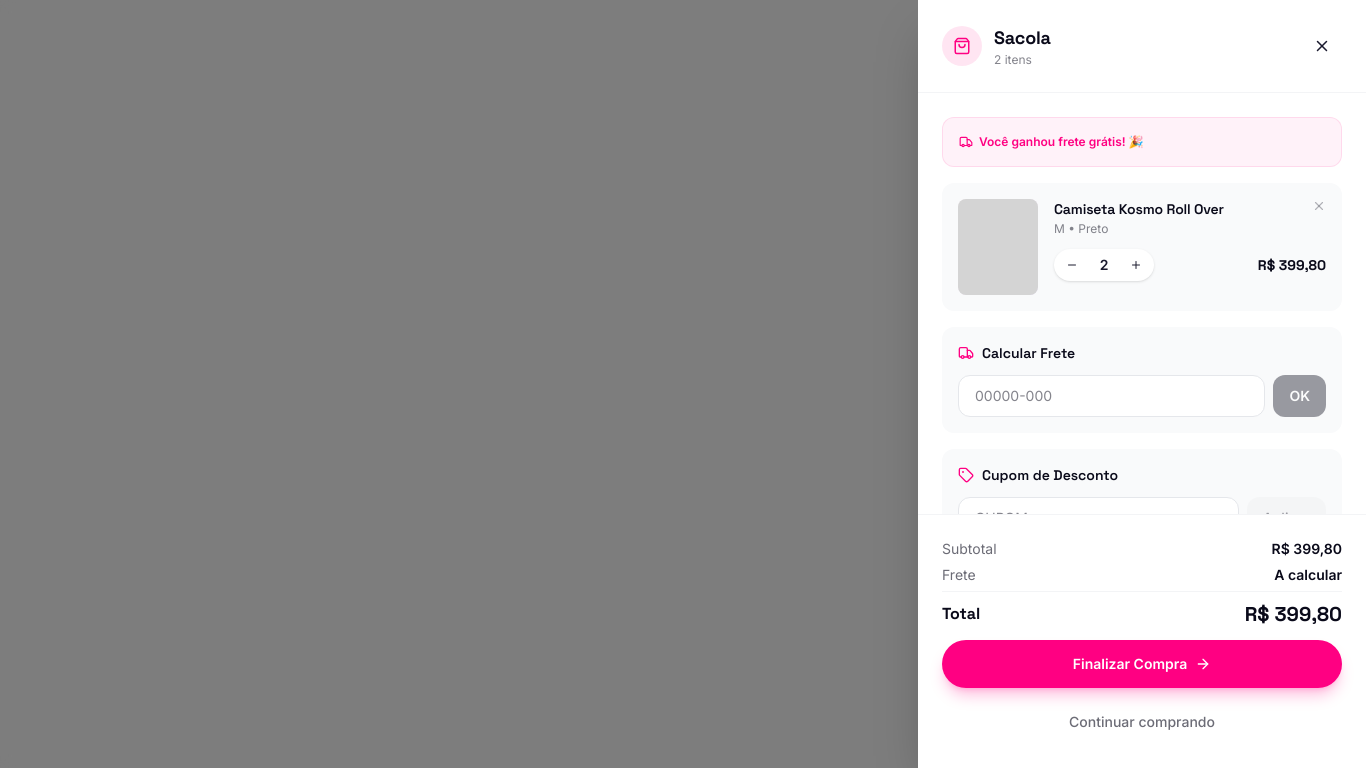
Test: CartDrawer (Componente) › remove item e mostra estado de carrinho vazio
Click the button named "Remover Camiseta Kosmo Roll Over". click: click(1319, 206)
box: x1=1312 y1=199 x2=1326 y2=213
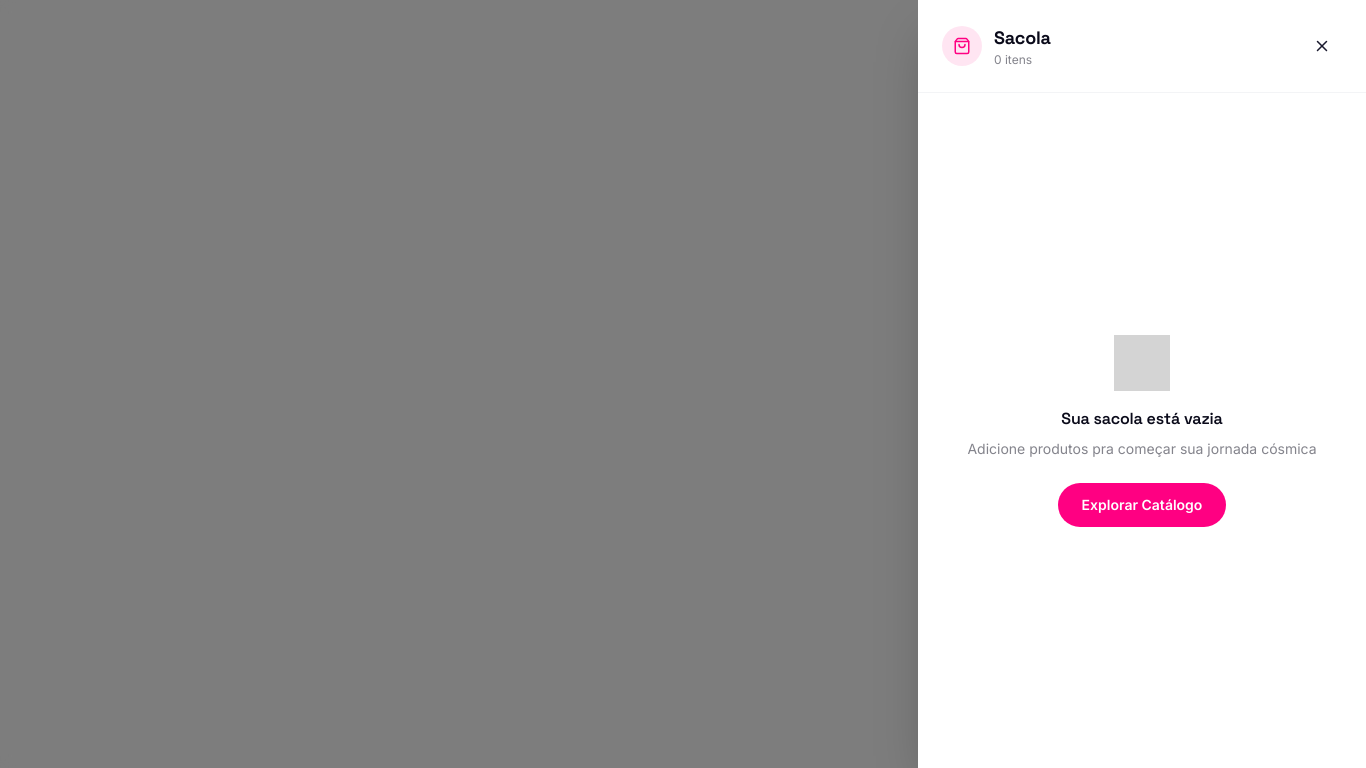
Now the heading "Sua sacola está vazia" is shown, box x1=1061 y1=406 x2=1223 y2=430
Now the link "Explorar Catálogo" is shown, box x1=1058 y1=482 x2=1226 y2=526
